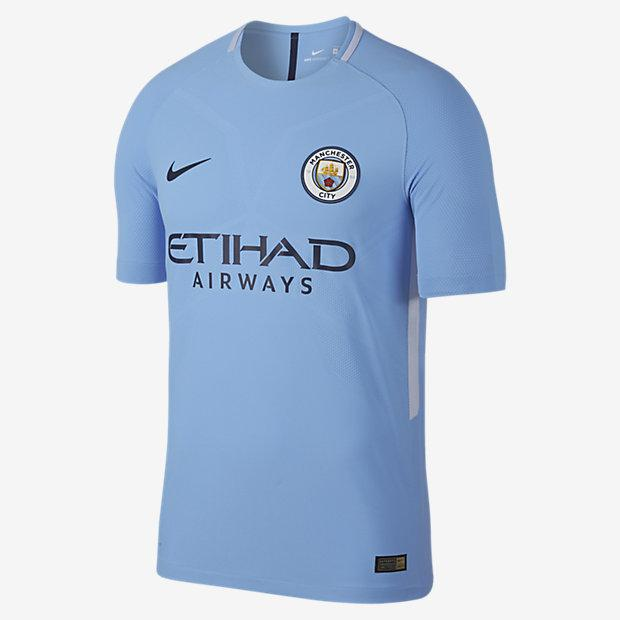teeshirt: (104, 17, 518, 614)
